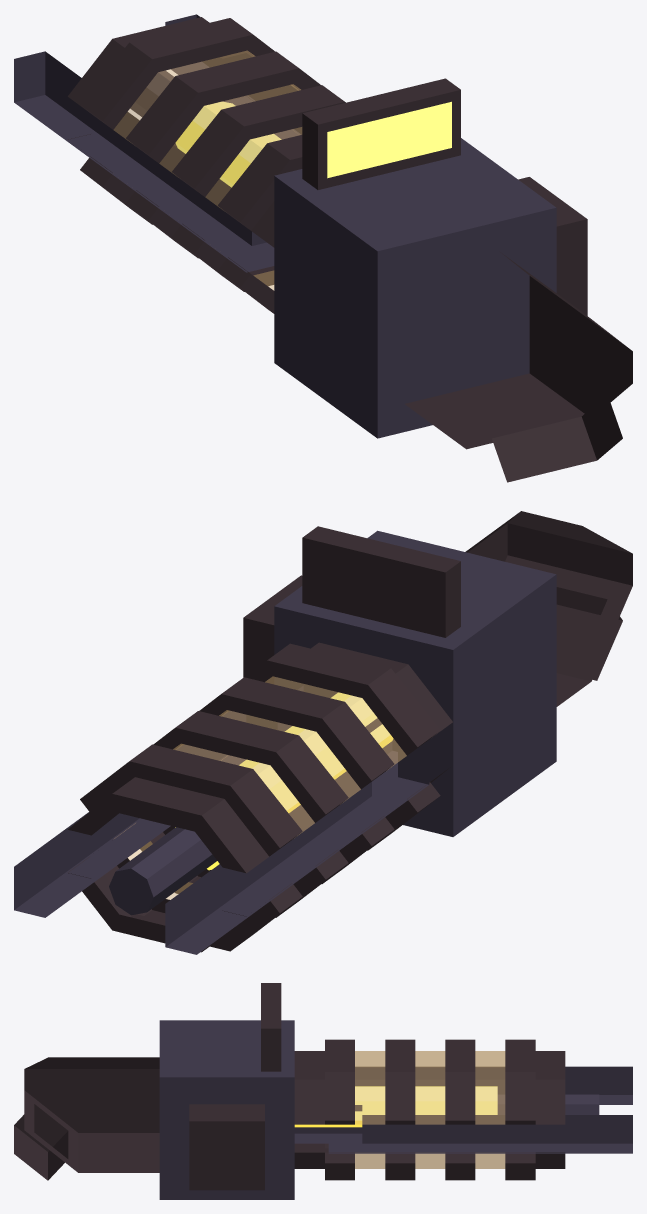
File: Railgun_Rev1.glb
3 renders of one model, top to bottom at view 1: azimuth 30°, elevation 25°; view 2: azimuth 150°, elevation 25°; view 3: azimuth 270°, elevation 25°, orthographic. The views are drawn at different scales.
Parts seen in each view (by area): view 1: Body, Cube.003, Battery, Cube.002, Cylinder.001, Cylinder; view 2: Cube.003, Body, Cube.002, Battery, Cylinder, Cylinder.001; view 3: Cube.003, Body, Battery, Cube.002, Cylinder.001, Cylinder.
Boxes of the visible parts, x1,y1,x2,y2 form: Body: [274, 78, 587, 438]; Cube.003: [68, 17, 345, 313]; Battery: [405, 252, 632, 482]; Cube.002: [14, 14, 302, 272]; Cylinder.001: [175, 101, 281, 187]; Cylinder: [130, 70, 173, 116]; Cube.003: [68, 642, 452, 952]; Body: [243, 526, 556, 836]; Cube.002: [14, 685, 429, 954]; Battery: [465, 511, 632, 706]; Cylinder: [109, 827, 216, 915]; Cylinder.001: [175, 692, 393, 870]; Cube.003: [294, 1039, 565, 1180]; Body: [159, 983, 294, 1199]; Battery: [14, 1057, 159, 1180]; Cube.002: [294, 1066, 632, 1153]; Cylinder.001: [294, 1086, 497, 1127]; Cylinder: [497, 1094, 599, 1114].
Bounding box in the file's own units: 2.72 × 2.7 × 9.15.
